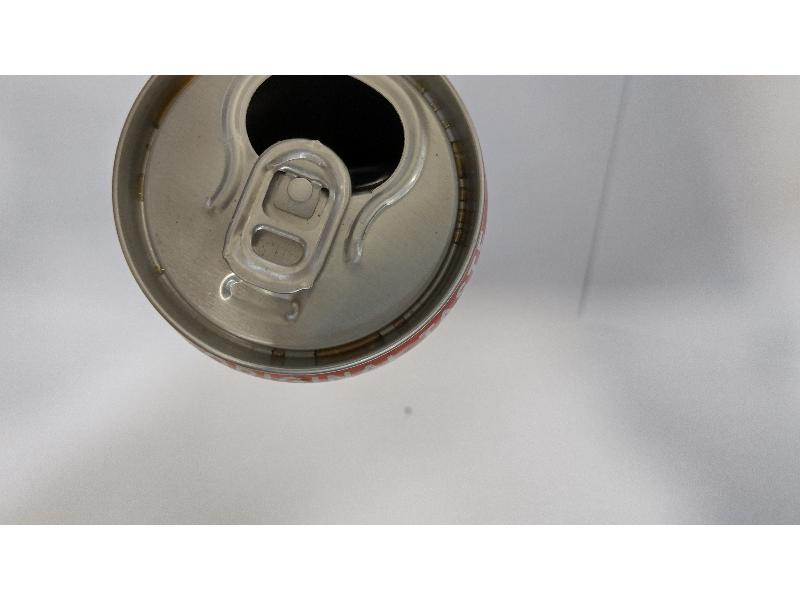can: (116, 75, 491, 387)
